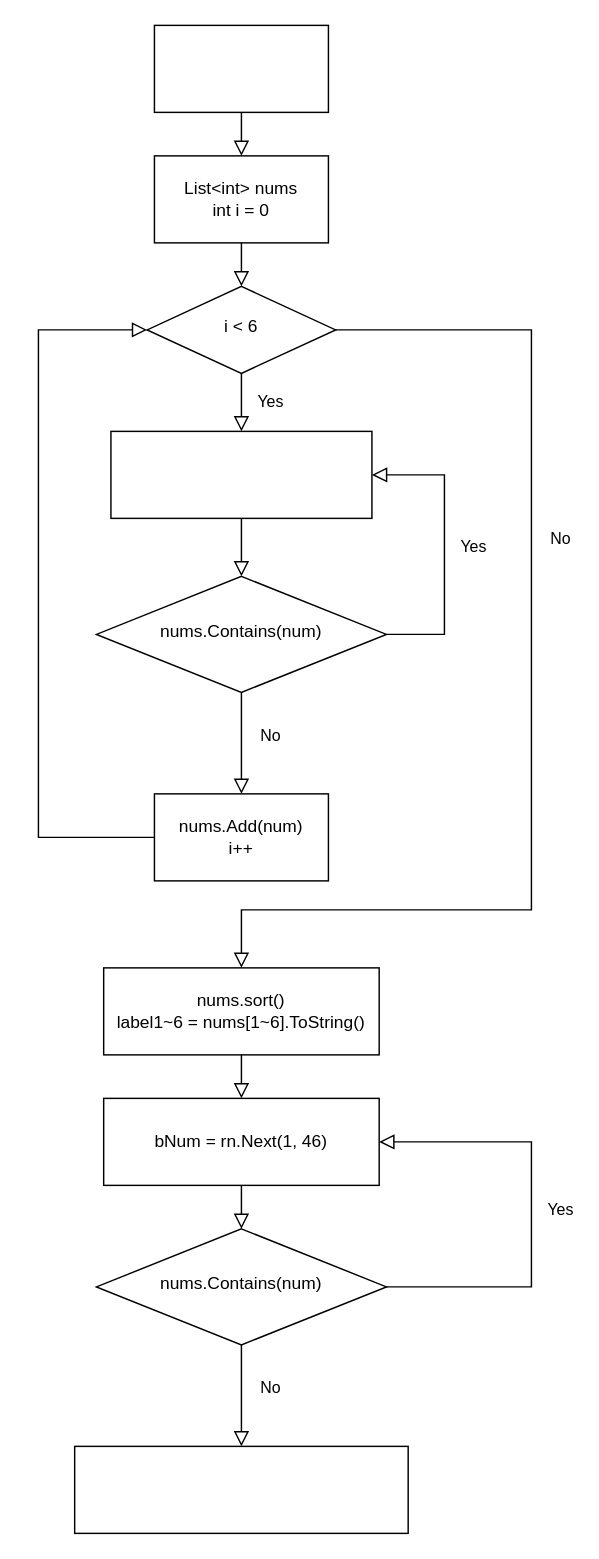
Some shapes in this 599 by 1559 pixel diagram are drawn without their labels. The centre of each missing label's shape, as x and y in pixels:
button click: the point at 240,68
label7.Text = bNum.ToString() end: the point at 240,1489
num = rn.Next(1, 46): the point at 240,474
